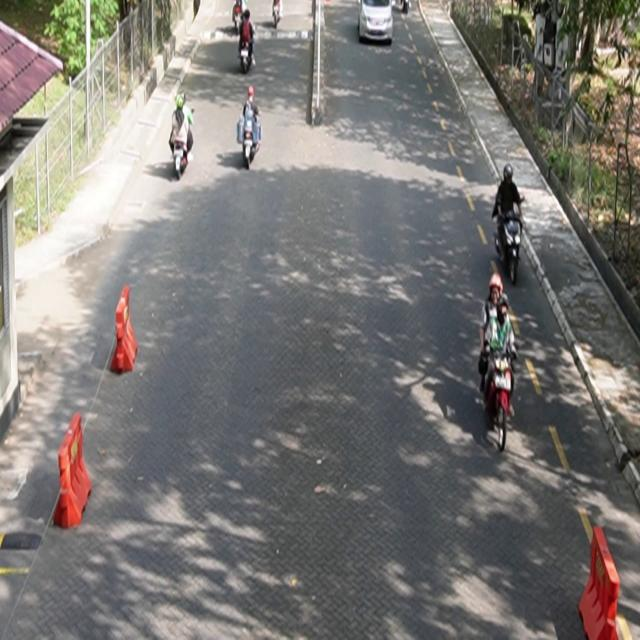car: (358, 1, 394, 45)
